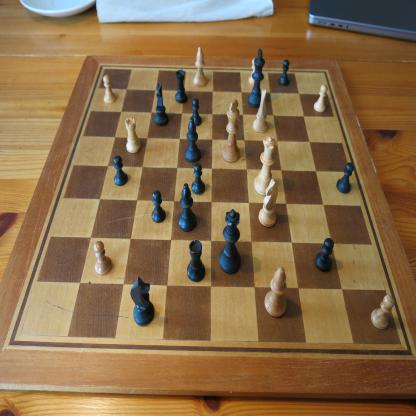black-bishop: (178, 183, 197, 232), (184, 118, 201, 164)
black-king: (247, 48, 266, 109)
black-knight: (130, 276, 155, 326), (154, 82, 169, 126)
black-pawn: (314, 237, 334, 273), (336, 162, 354, 194), (151, 190, 166, 223), (113, 155, 128, 187), (191, 162, 205, 195), (190, 98, 202, 127), (278, 59, 290, 86)
black-queen: (218, 208, 241, 275)
black-rook: (186, 240, 206, 282), (175, 70, 187, 104)
white-bishop: (264, 266, 287, 318), (193, 47, 207, 88)
white-king: (254, 136, 278, 197), (222, 99, 240, 163)
white-knight: (258, 178, 278, 228), (252, 88, 269, 134)
white-pawn: (370, 294, 395, 331), (93, 240, 113, 276), (314, 84, 328, 113), (103, 74, 116, 104), (248, 58, 256, 86)
white-rook: (125, 116, 141, 154)
